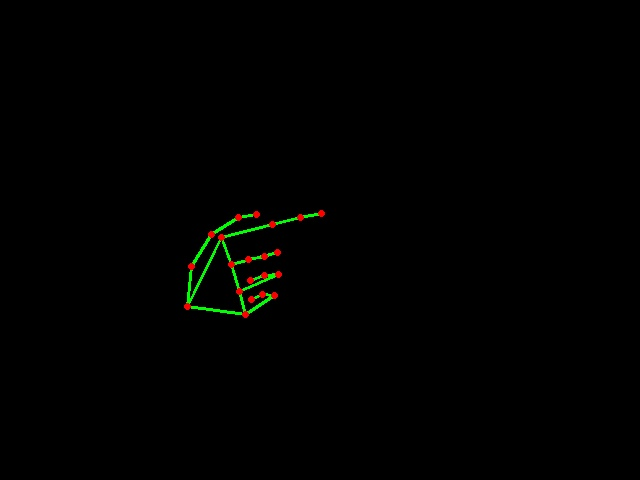left: (183, 196, 334, 323)
